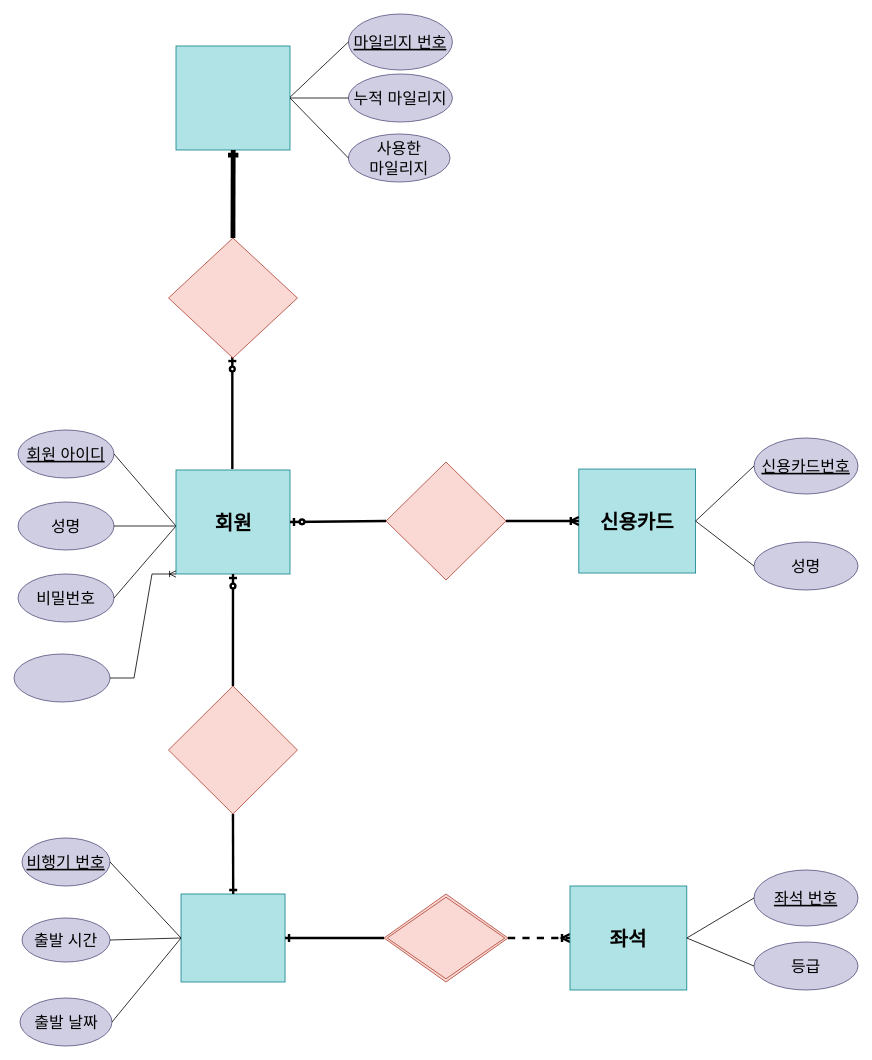
Some shapes in this 872 by 1060 pixel diagram are drawn without their labels. The centre of each missing label's shape, as x and y in pixels:
"마일리지" goes at pixel 232 97.
"보유" goes at pixel 445 520.
"비행기" goes at pixel 232 937.
"생성" goes at pixel 232 297.
"예약" goes at pixel 232 749.
"이메일 주소" goes at pixel 61 677.
"존재" goes at pixel 445 937.
